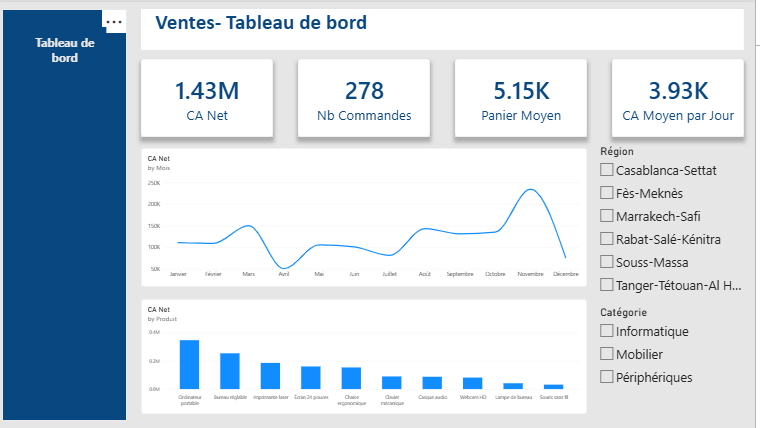

The page's visual inventory and layout, read from the dashboard file:
{"tool":"powerbi","page":{"name":"Page 1","canvas":[1920,1080],"ordinal":0},"visuals":[{"type":"shape","box":[22.7,17.6,315,1038.1],"z":0},{"type":"actionButton","box":[75.9,63.2,210,116.4],"z":1000},{"type":"textbox","box":[372.9,17.6,1519.4,103.3],"z":3000},{"type":"cardVisual","fields":{"Data":["Mesures.CA Net"]},"box":[372.9,143.6,332.6,196.5],"z":4000},{"type":"cardVisual","fields":{"Data":["Mesures.Nb Commandes"]},"box":[768.5,143.6,332.6,196.5],"z":5000},{"type":"cardVisual","fields":{"Data":["Mesures.Panier Moyen"]},"box":[1164.1,143.6,332.6,196.5],"z":6000},{"type":"cardVisual","fields":{"Data":["Mesures.CA Moyen par Jour"]},"box":[1559.7,143.6,332.6,196.5],"z":7000},{"type":"lineChart","fields":{"Category":["DimCalendrier.Mois"],"Y":["Mesures.CA Net"]},"box":[372.9,367.9,1123.8,350.2],"z":8000},{"type":"columnChart","fields":{"Category":["DimProduit.Produit"],"Y":["Mesures.CA Net"]},"box":[372.9,748.3,1124,290],"z":8001},{"type":"slicer","fields":{"Values":["DimGeographie.Région"]},"box":[1521.9,360.3,370.4,388],"z":8002},{"type":"slicer","fields":{"Values":["DimProduit.Catégorie"]},"box":[1521.9,766,347.7,289.8],"z":8003}]}

Visuals, with their boxes on the page's 1920x1080 design canvas (x1, y1, x2, y2). These are canvas units, not pixel positions in the 760x428 screenshot, which may show the page scaled, cropped or inside an application window:
shape: (23, 18, 338, 1056)
actionButton: (76, 63, 286, 180)
textbox: (373, 18, 1892, 121)
cardVisual - Mesures.CA Net: (373, 144, 706, 340)
cardVisual - Mesures.Nb Commandes: (768, 144, 1101, 340)
cardVisual - Mesures.Panier Moyen: (1164, 144, 1497, 340)
cardVisual - Mesures.CA Moyen par Jour: (1560, 144, 1892, 340)
lineChart - DimCalendrier.Mois x Mesures.CA Net: (373, 368, 1497, 718)
columnChart - DimProduit.Produit x Mesures.CA Net: (373, 748, 1497, 1038)
slicer - DimGeographie.Région: (1522, 360, 1892, 748)
slicer - DimProduit.Catégorie: (1522, 766, 1870, 1056)
